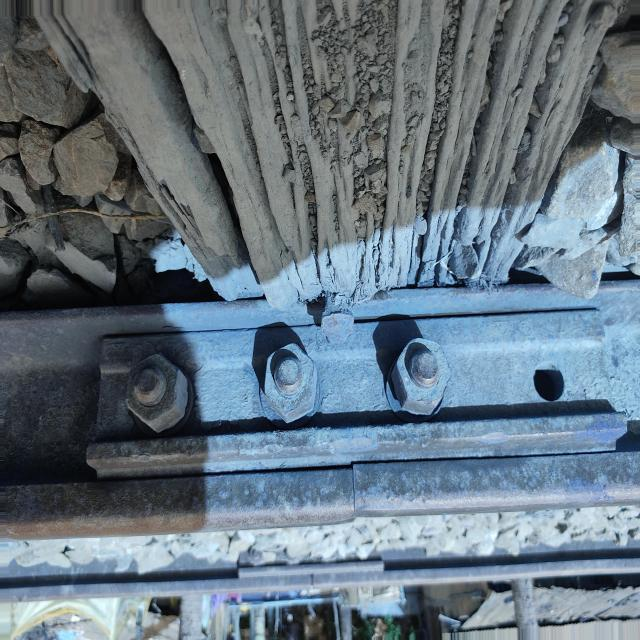Defective Joint: (88, 309, 632, 481)
Good Fasteners: (321, 291, 354, 344)
